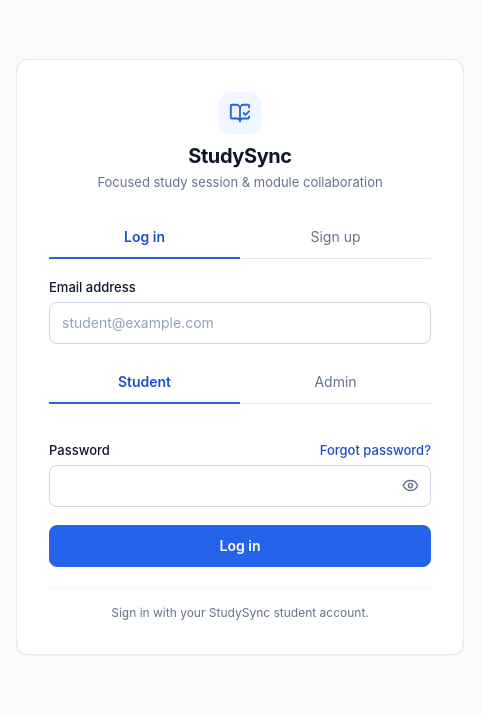
Test: StudySync screens › switches between login and sign-up forms
Click the button "Sign up".
click(336, 238)  # box [240,217,431,259]
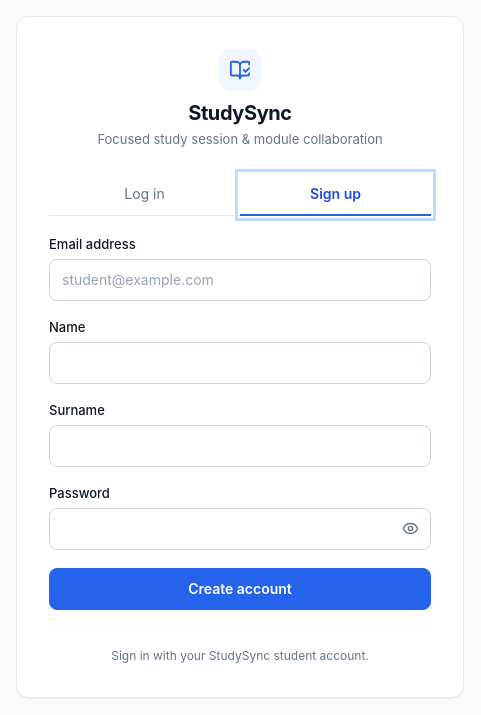
Now the button "Create account" is shown, box [49,568,431,610]
Now the button "Forgot password?" is gone
